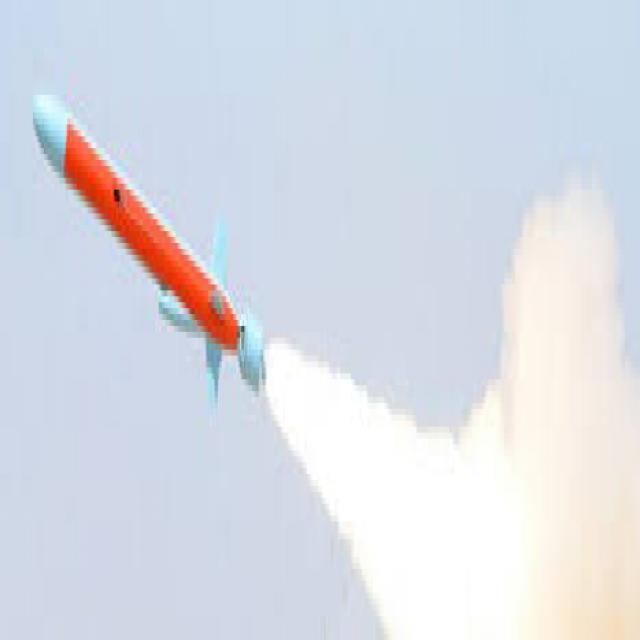missile: (32, 74, 267, 422)
